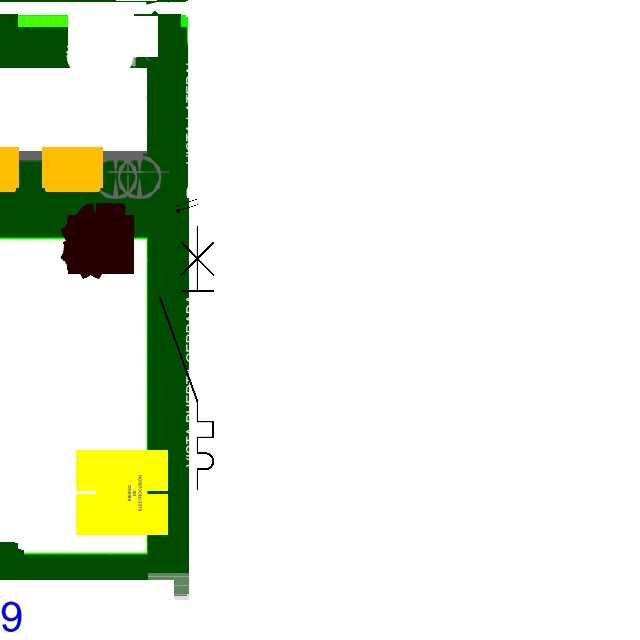interruptor_termomagnetico: (153, 220, 220, 496)
